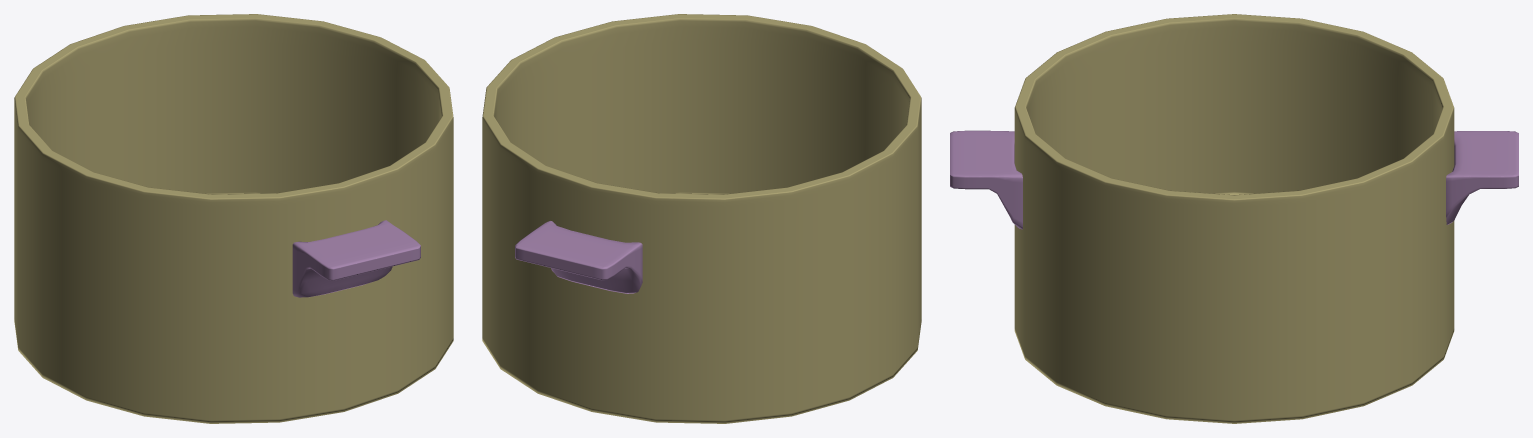
File: SaucePan.fbx
3 renders of one model, left to right at view 1: azimuth 30°, elevation 25°; view 2: azimuth 150°, elevation 25°; view 3: azimuth 270°, elevation 25°, orthographic.
Visible parts, largest first — view 1: SaucePan; view 2: SaucePan; view 3: SaucePan.
Boxes of the visible parts, <box> form: SaucePan: <box>14,14,453,423</box>; SaucePan: <box>482,14,921,423</box>; SaucePan: <box>950,14,1518,423</box>.
Bounding box in the file's own units: 0.8977 × 0.5086 × 1.16.
